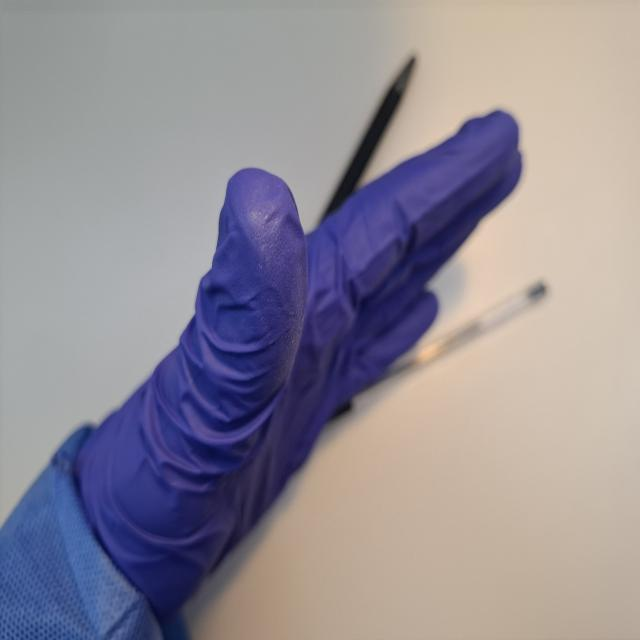glove_on: (65, 105, 525, 625)
